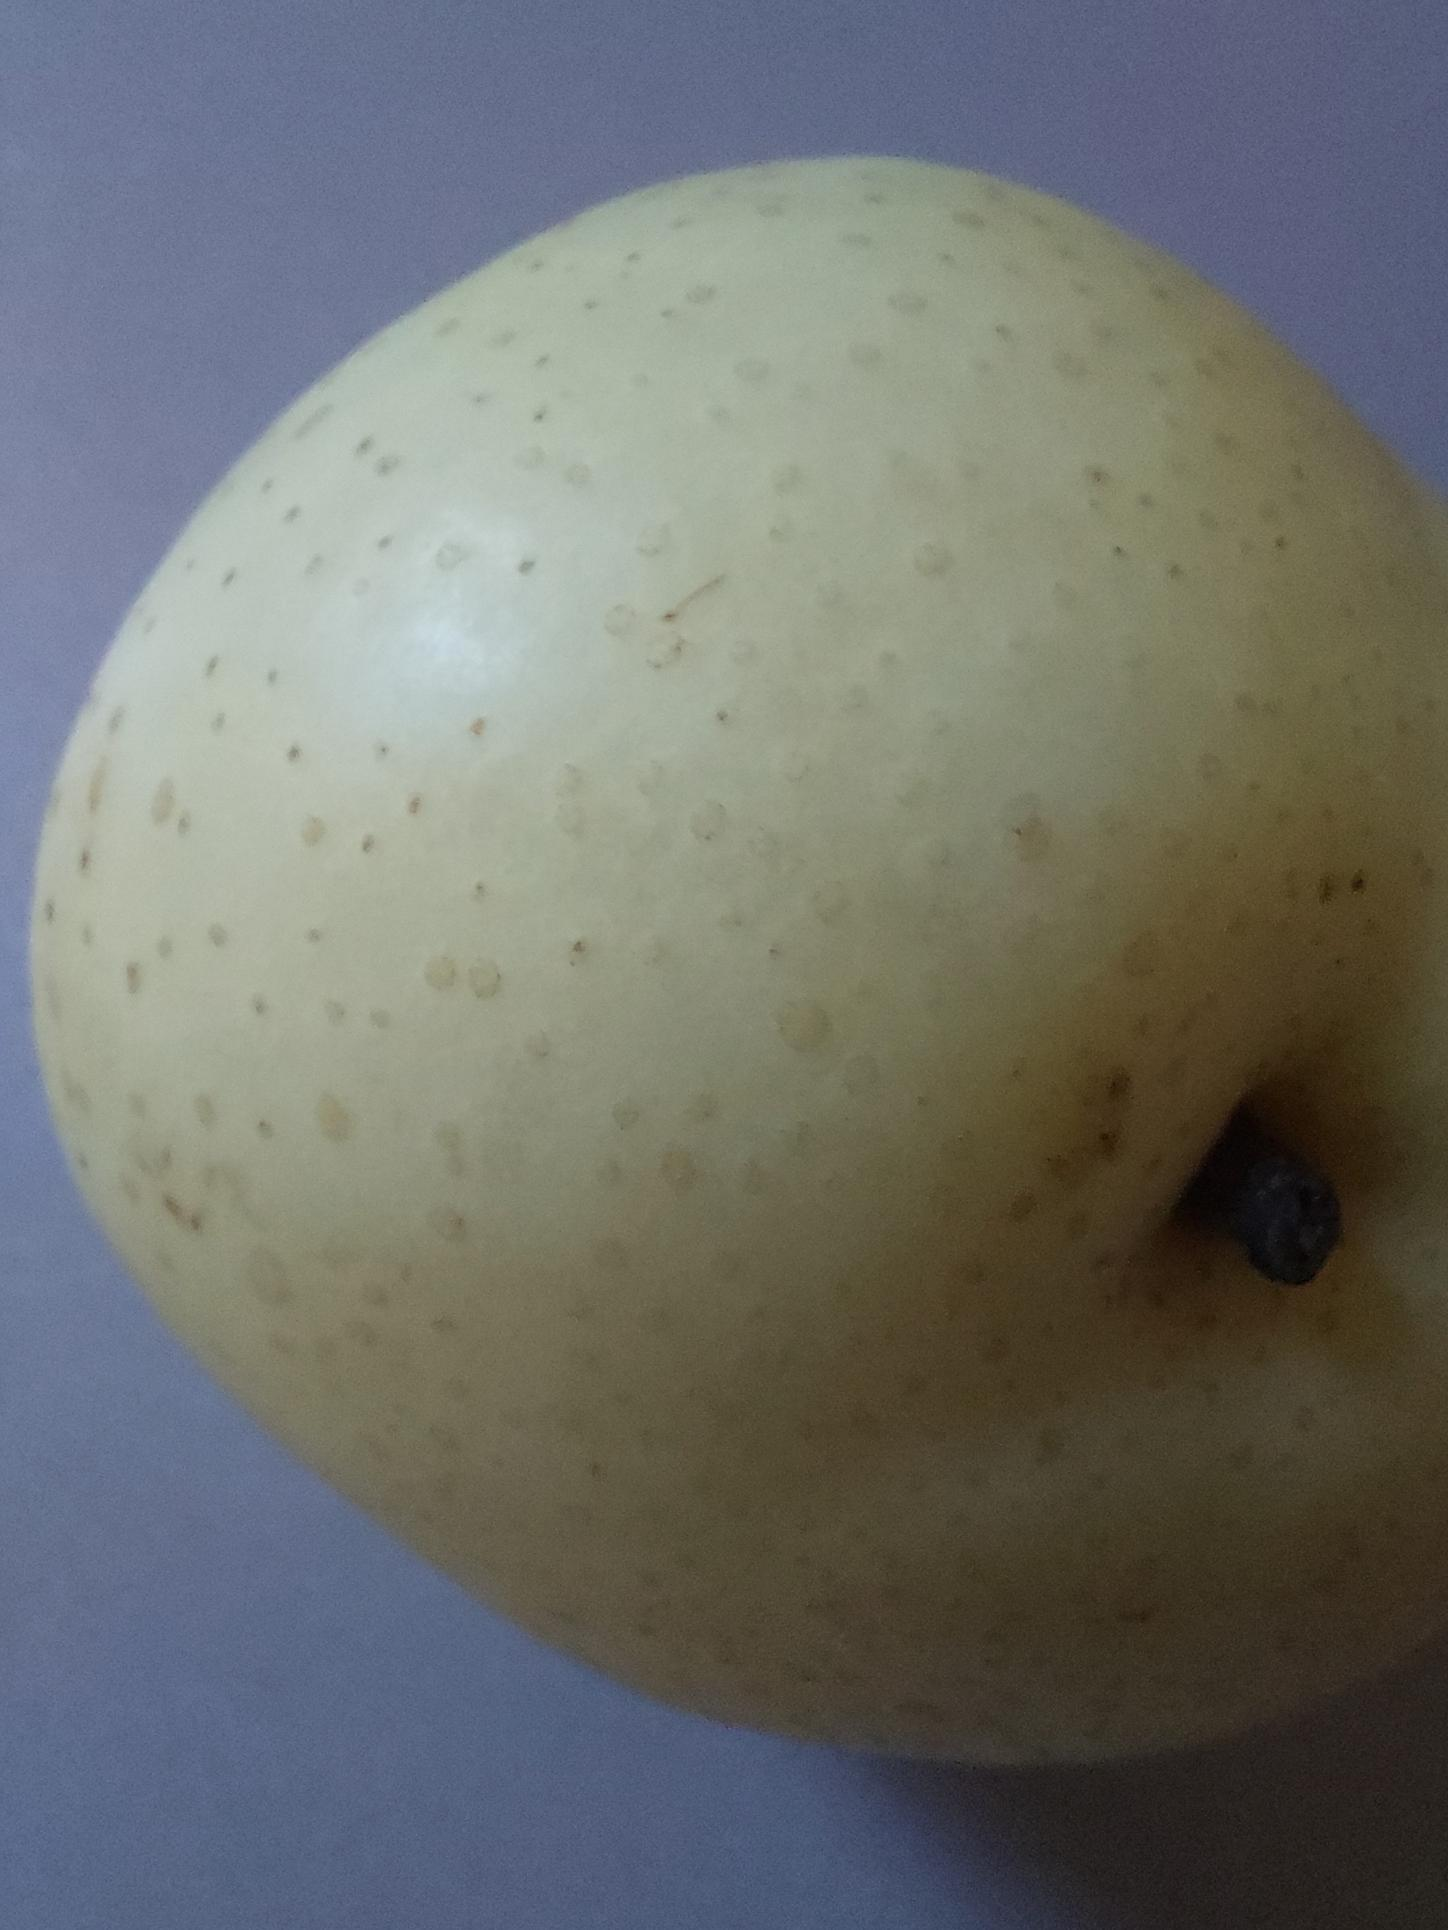Good Pear: (0, 97, 1448, 1827)
